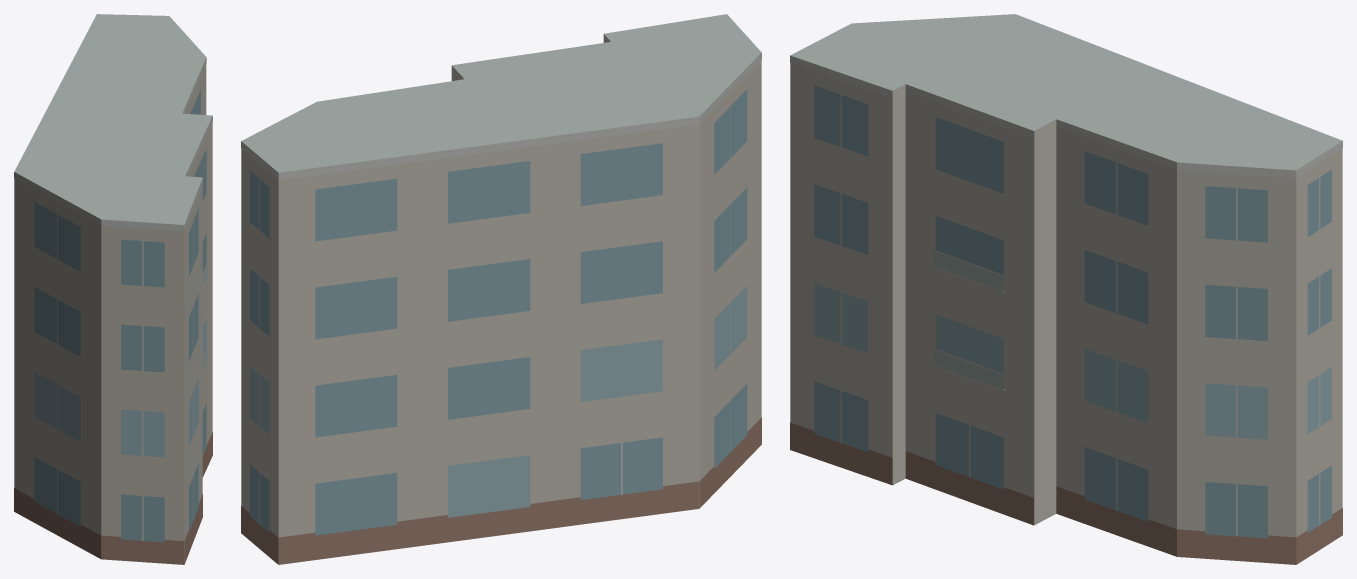
Rendered from survey-upis-32472961.glb.
3 renders of one model, left to right at view 1: azimuth 30°, elevation 25°; view 2: azimuth 150°, elevation 25°; view 3: azimuth 270°, elevation 25°, orthographic. The views are drawn at different scales.
Parts seen in each view (by area): view 1: survey-upis-32472961.tmp; view 2: survey-upis-32472961.tmp; view 3: survey-upis-32472961.tmp.
Part boxes in pixels (box(x1,y1,x2,y2)): survey-upis-32472961.tmp: box(14, 14, 212, 564); survey-upis-32472961.tmp: box(241, 14, 761, 564); survey-upis-32472961.tmp: box(790, 14, 1342, 564).
Size of the model in its own units: 10.89 by 12.8 by 16.26.
